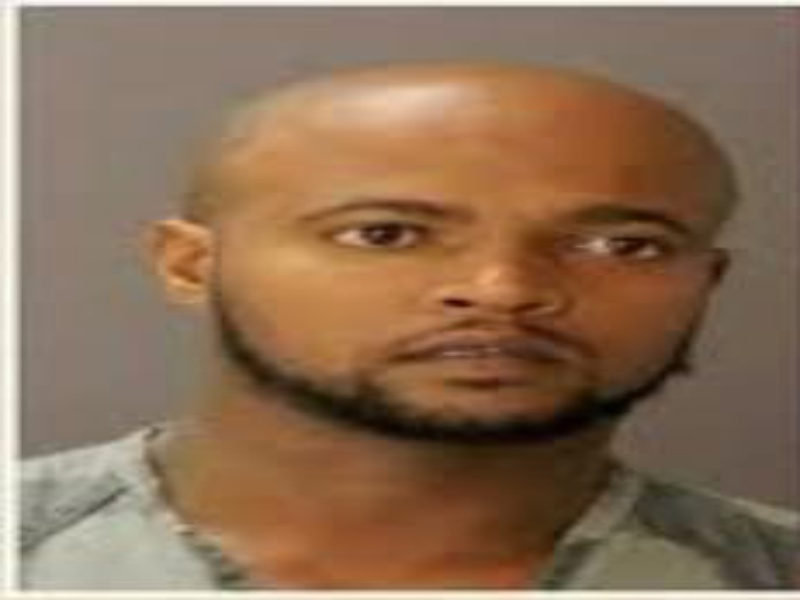TsisyArotava: (140, 18, 762, 481)
